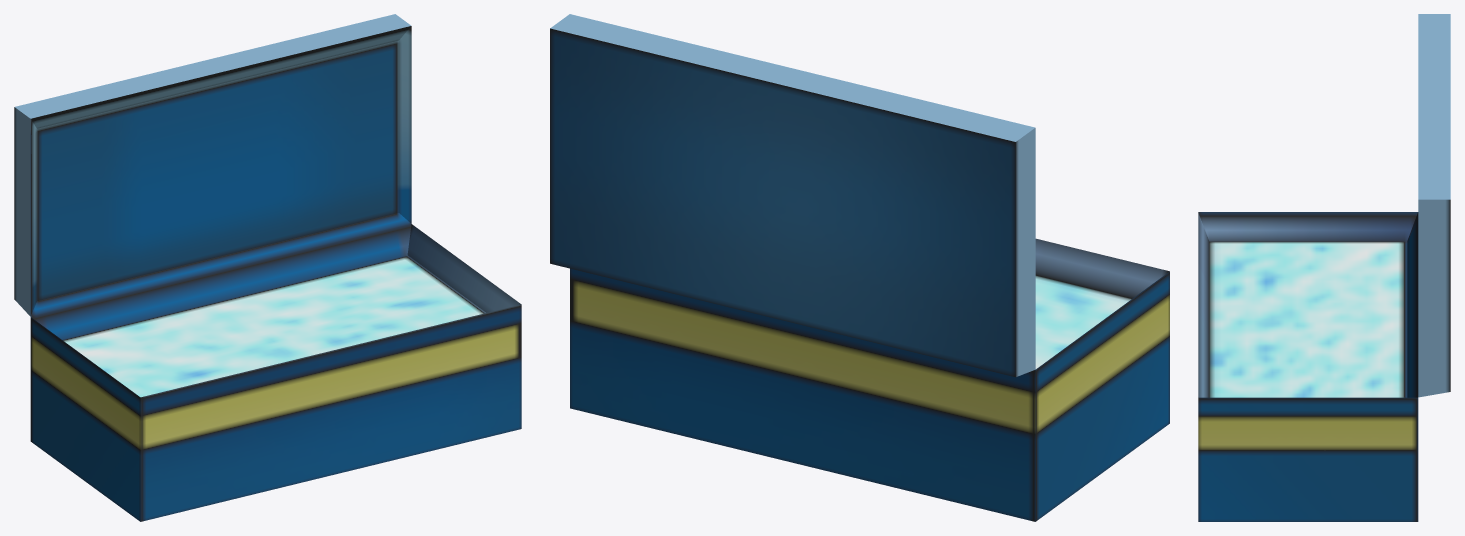
File: magicpowder3.FBX
The picture shows the model from 3 angles, left to right: view 1: azimuth 30°, elevation 25°; view 2: azimuth 150°, elevation 25°; view 3: azimuth 270°, elevation 25°; orthographic projection. The views are drawn at different scales.
Parts seen in each view (by area): view 1: Box023; view 2: Box023; view 3: Box023.
Boxes of the visible parts, x1,y1,x2,y2 form: Box023: (14, 14, 521, 521); Box023: (550, 14, 1169, 521); Box023: (1198, 14, 1450, 521).
Bounding box in the file's own units: 71.06 × 57.51 × 40.76.
